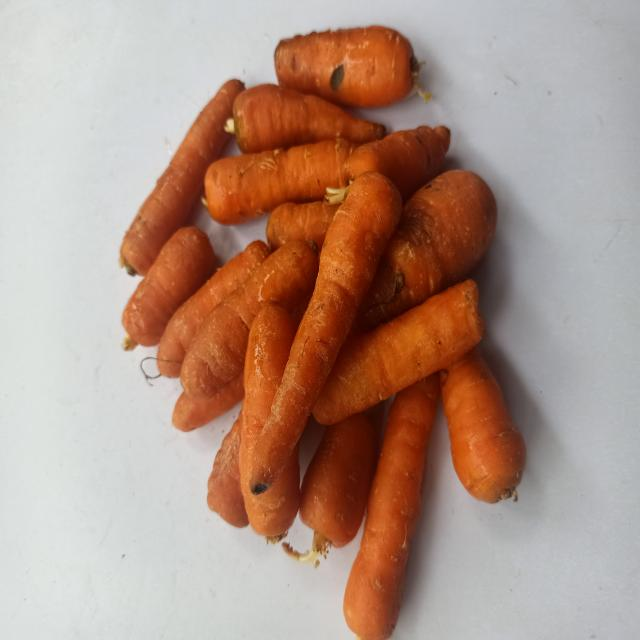Carrot: (249, 171, 402, 494), (344, 372, 441, 640), (313, 279, 485, 425), (120, 78, 245, 275), (352, 170, 498, 332), (180, 240, 319, 398), (440, 346, 527, 503), (204, 138, 356, 224), (274, 24, 414, 107), (122, 226, 214, 346), (233, 83, 386, 153), (299, 412, 376, 548)
